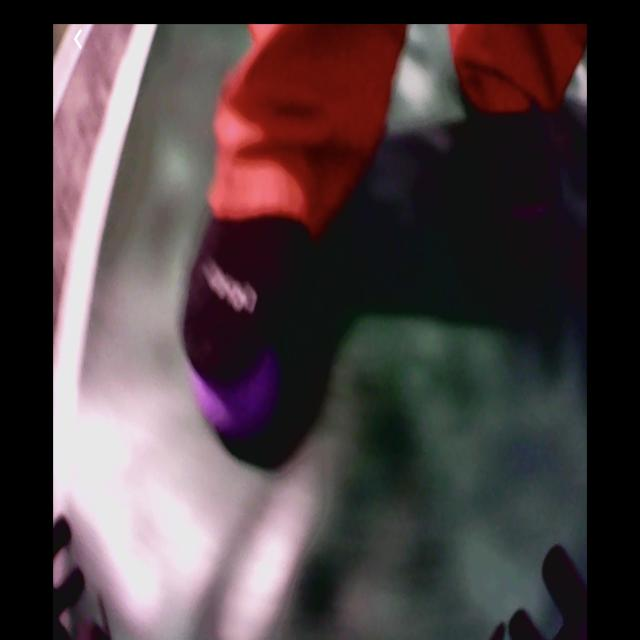ball: (193, 327, 275, 431)
